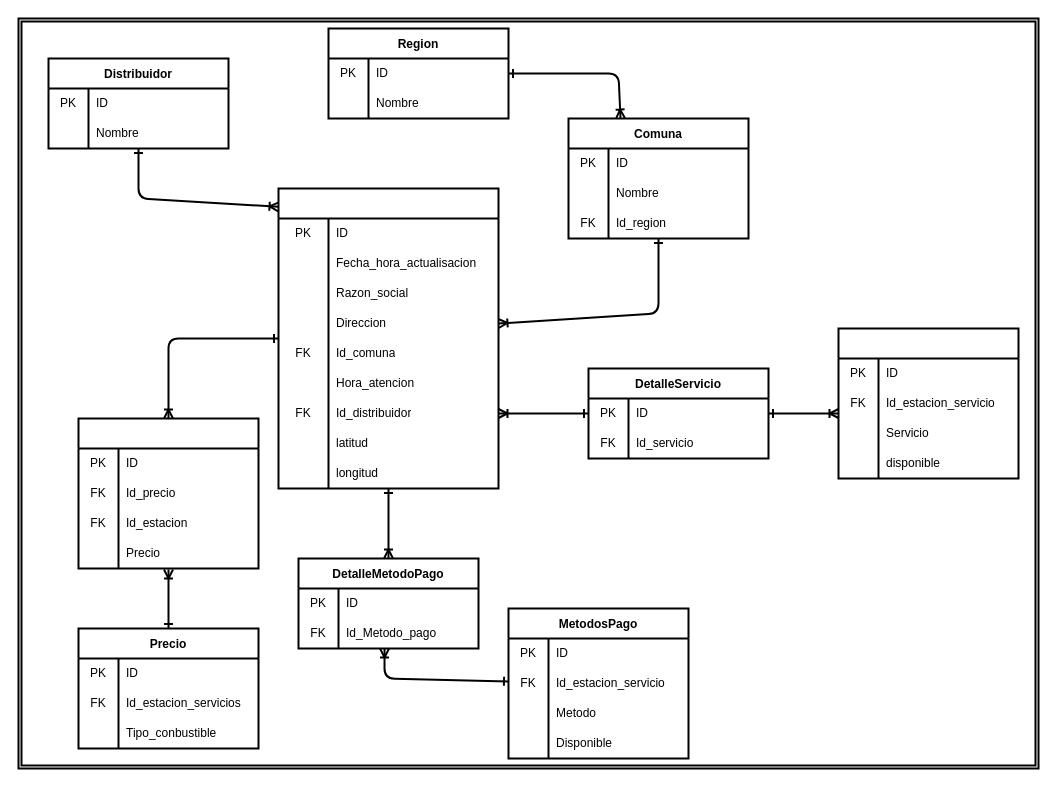
Some shapes in this 1056 by 786 pixel diagram are drawn without their labels. Here are the shapes that lost their labels. From the top down, the box of each, then its label:
(277, 187, 499, 489): EstacionServicio
(837, 327, 1019, 479): Servicios
(77, 417, 259, 569): DetallePrecio
